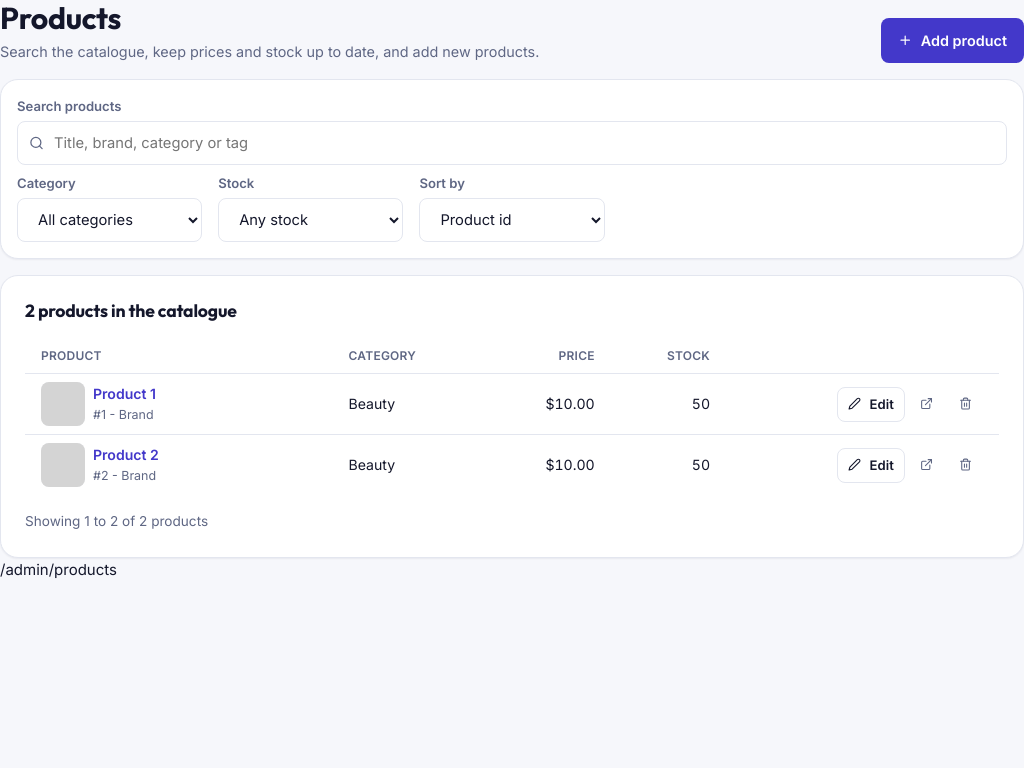
Test: AdminProducts › deletes a product only after asking, then moves focus to the list
Expected: the link "Product 2" is shown, [93,444,159,466]
Click the button named "Delete Product 2" in the row of "Product 2".
click(965, 465)  # box [948,448,983,482]
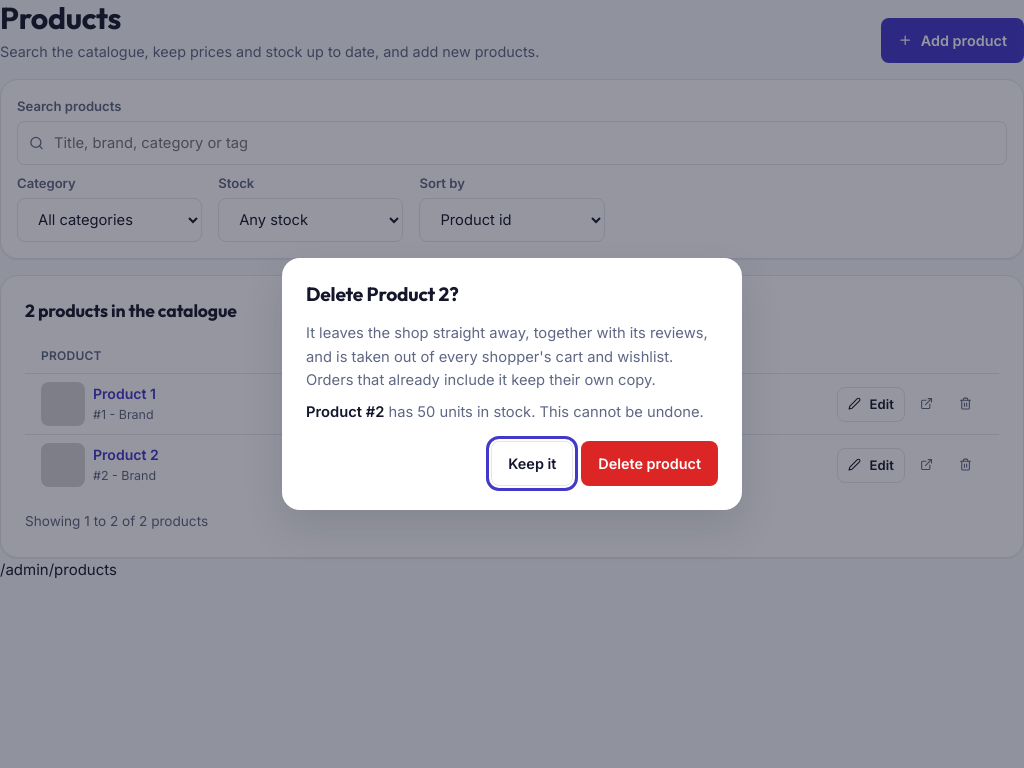
Click the button "Keep it".
click(532, 463)  # box [491,441,573,486]
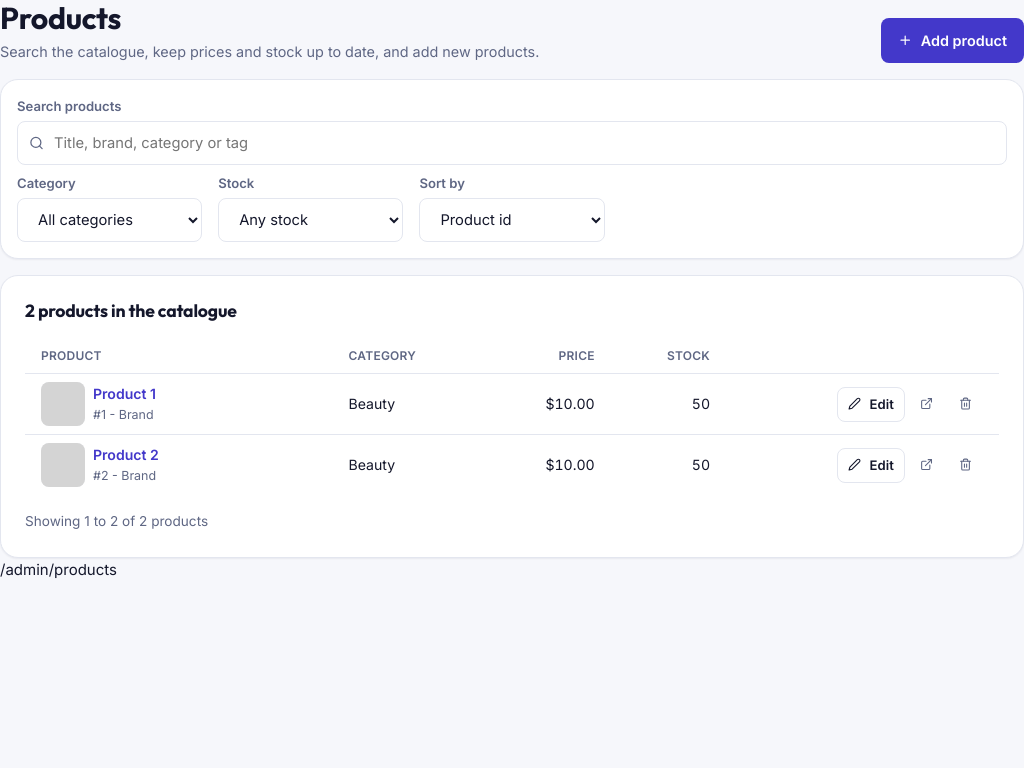
Click the button named "Delete Product 2" in the row of "Product 2".
click(965, 465)  # box [948,448,983,482]
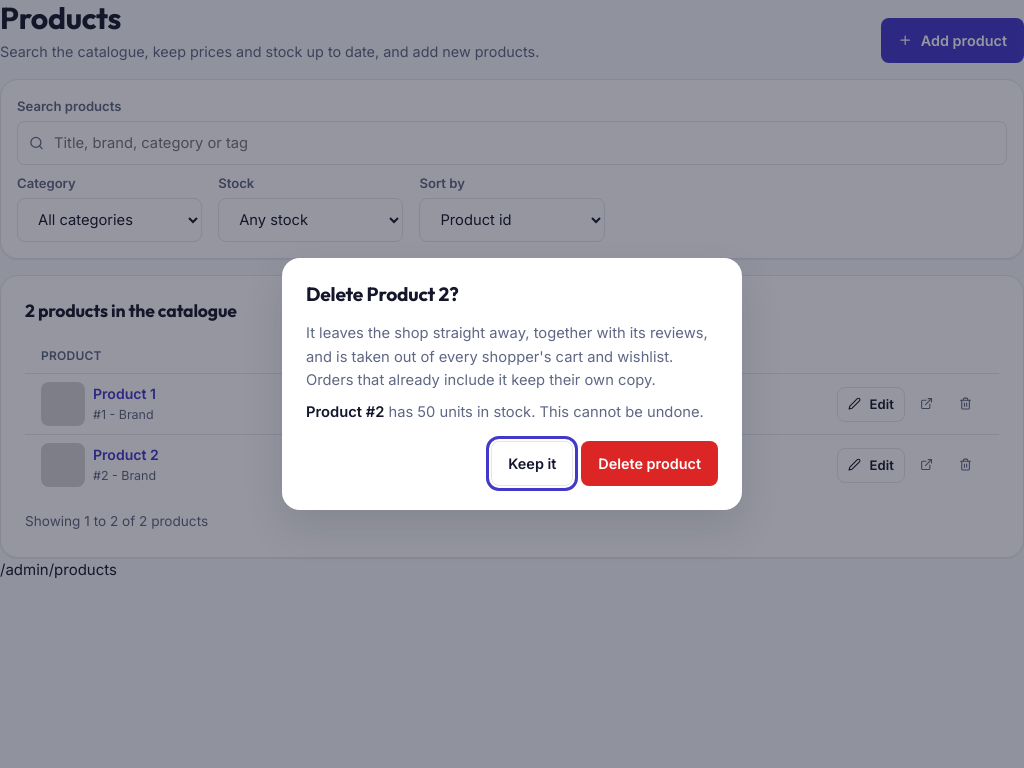
Click the button "Delete product".
click(650, 463)  # box [581,441,718,486]
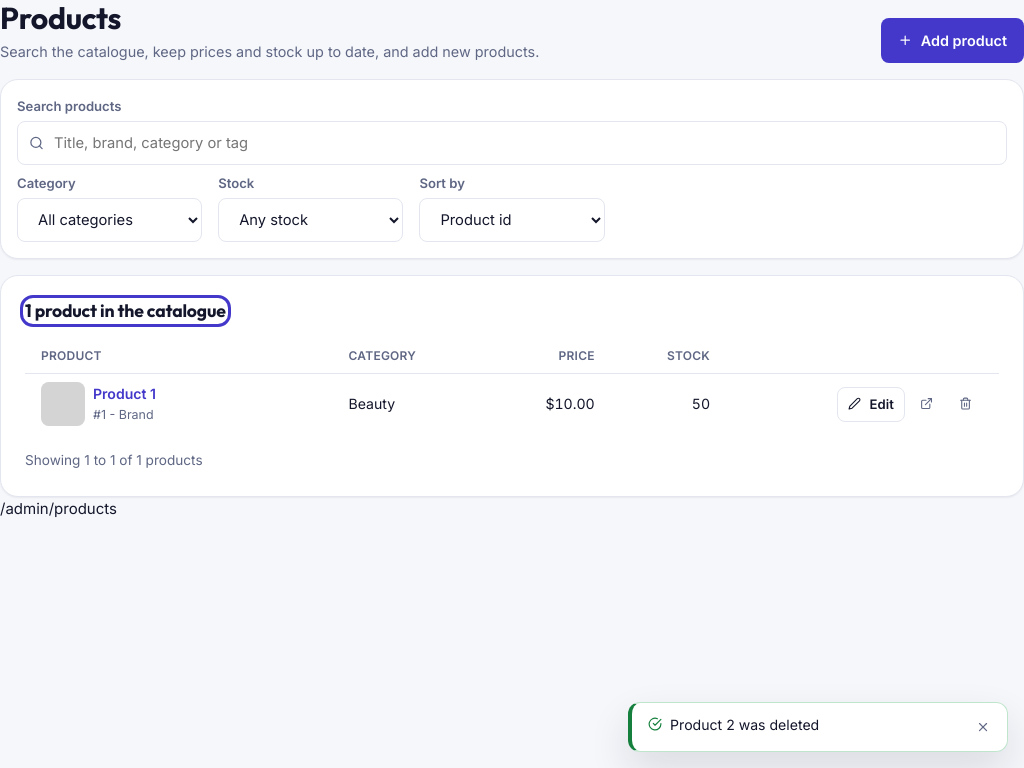
Expected: the text "Product 2 was deleted" is shown, [670,716,819,733]
